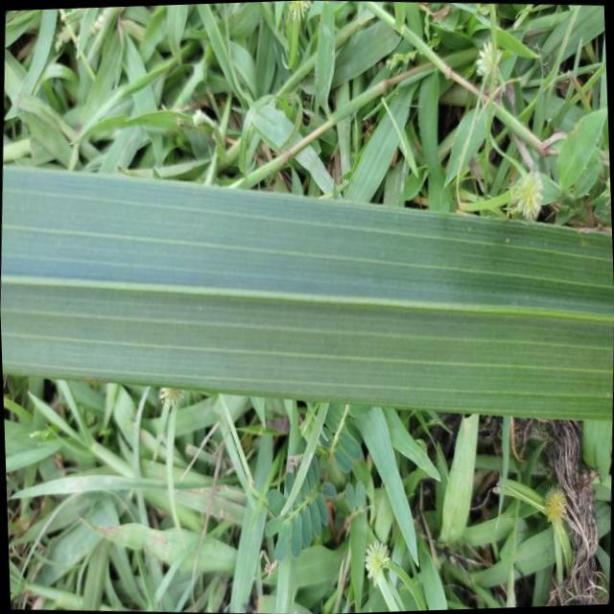Healthy: (0, 166, 614, 422)
